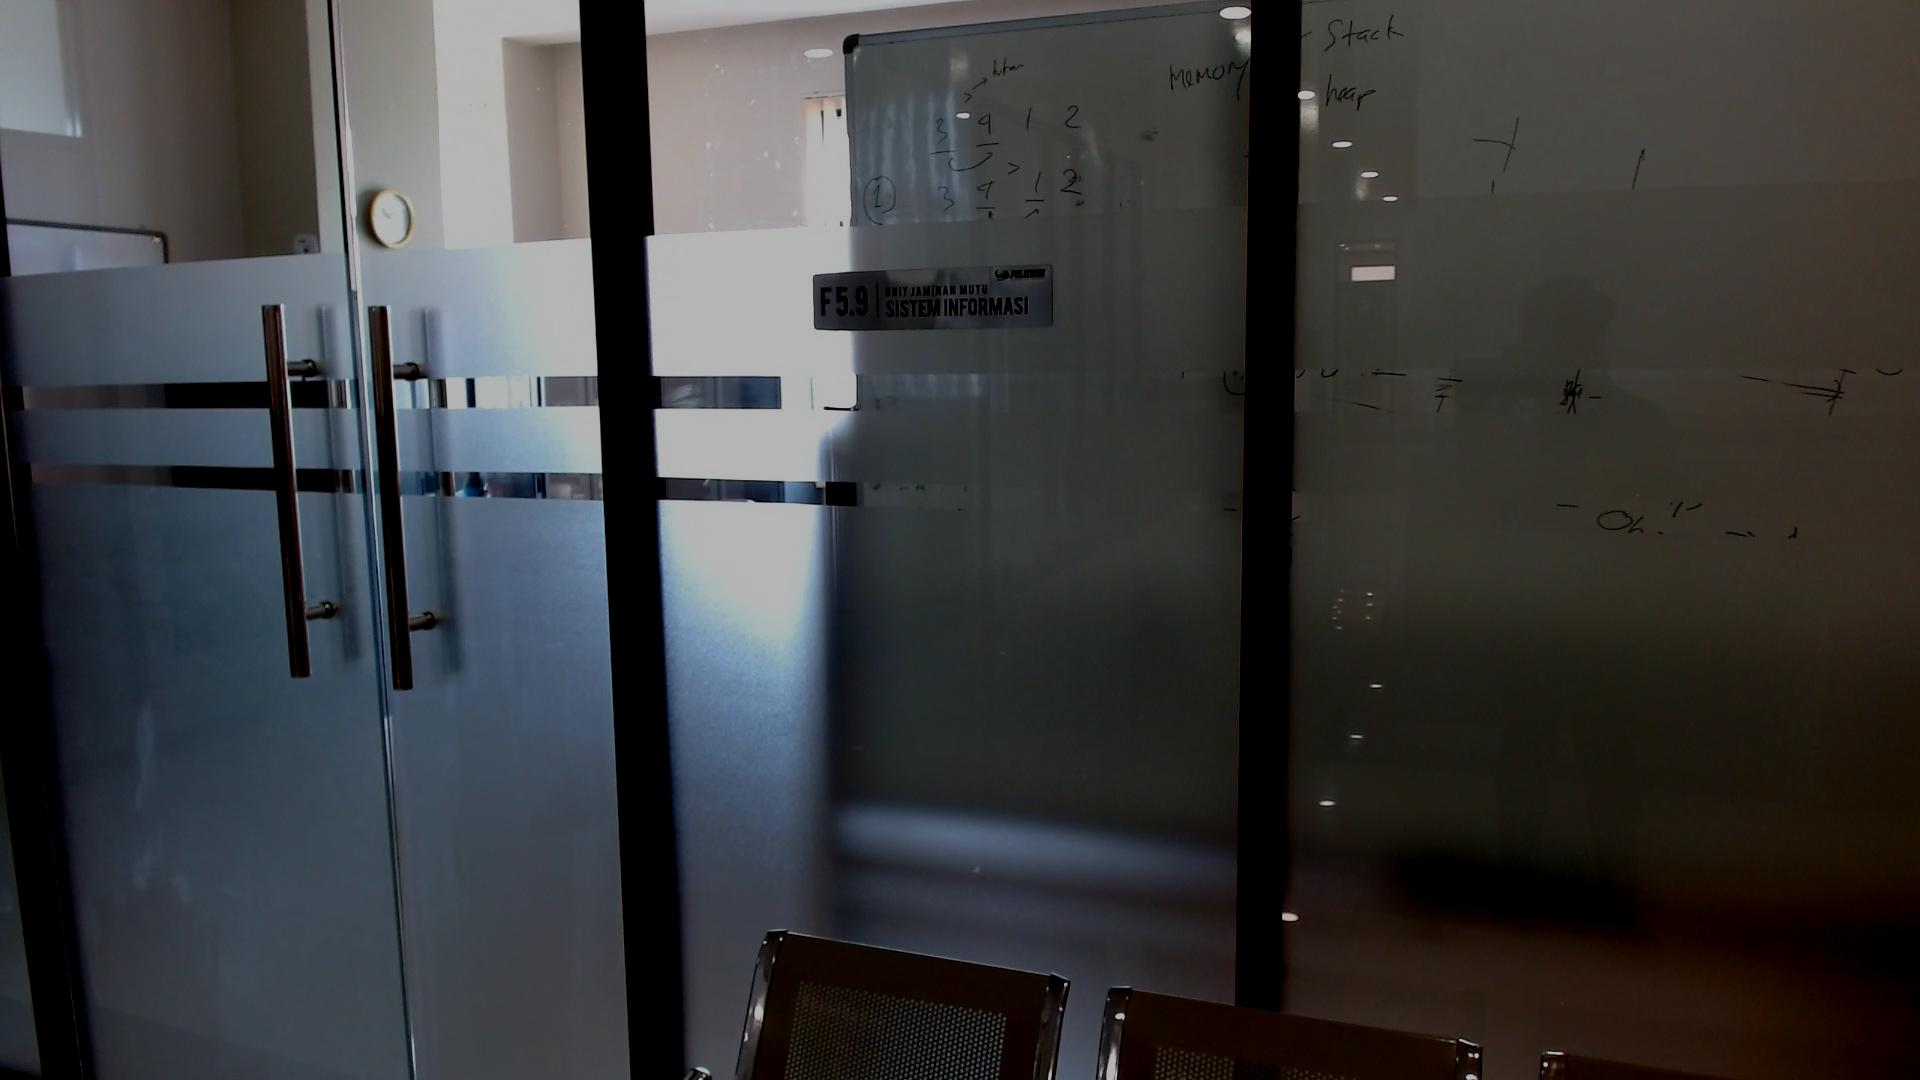plate: (814, 262, 1054, 330)
